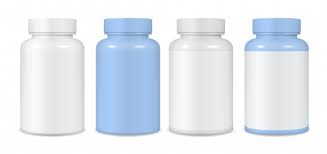unavailable: (10, 10, 90, 143), (240, 17, 318, 146), (167, 12, 238, 145), (96, 10, 164, 142)
